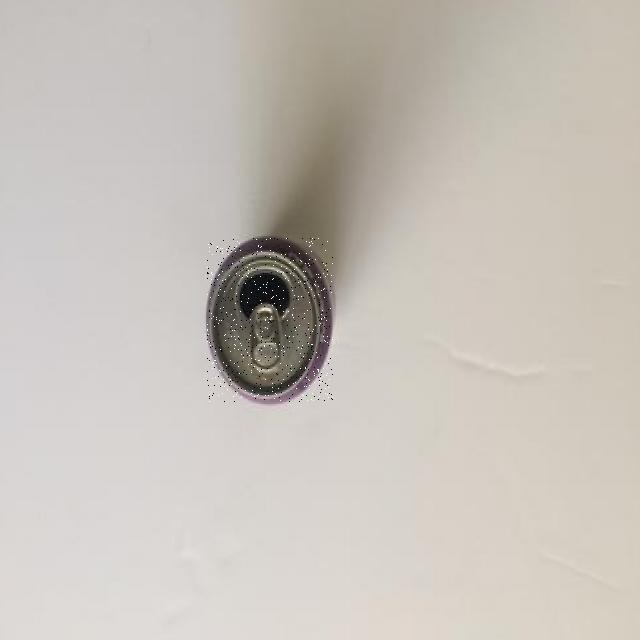metal: (207, 238, 333, 402)
